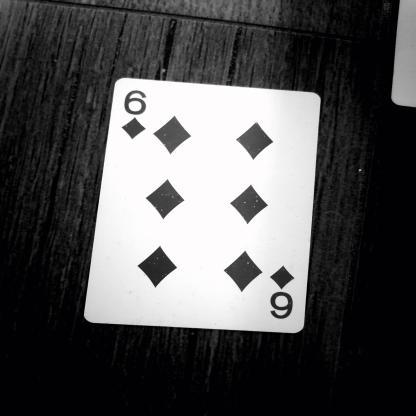6D: (265, 260, 311, 324), (114, 89, 167, 142)
